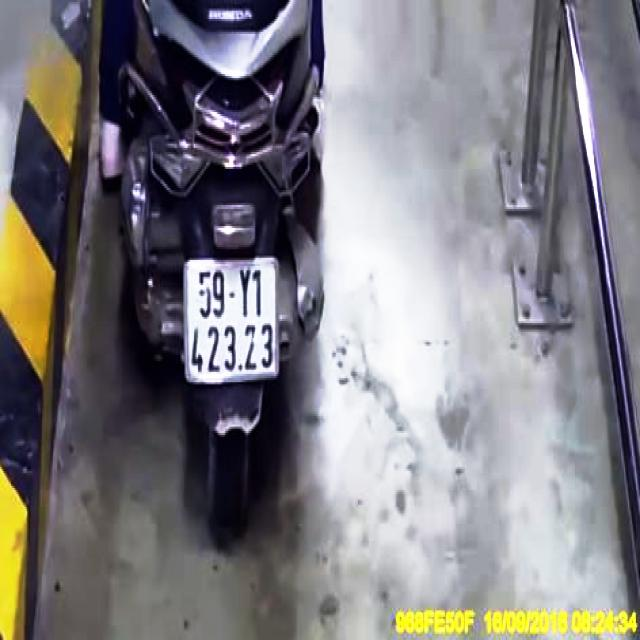license_plate: (185, 265, 281, 386)
